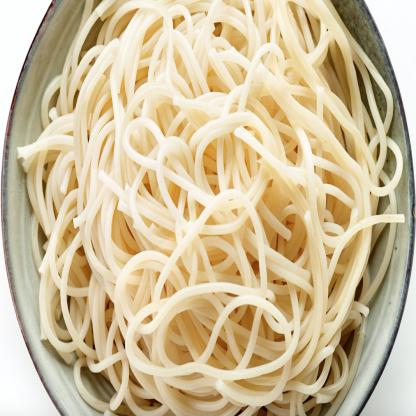Noodles: (16, 0, 405, 415)
